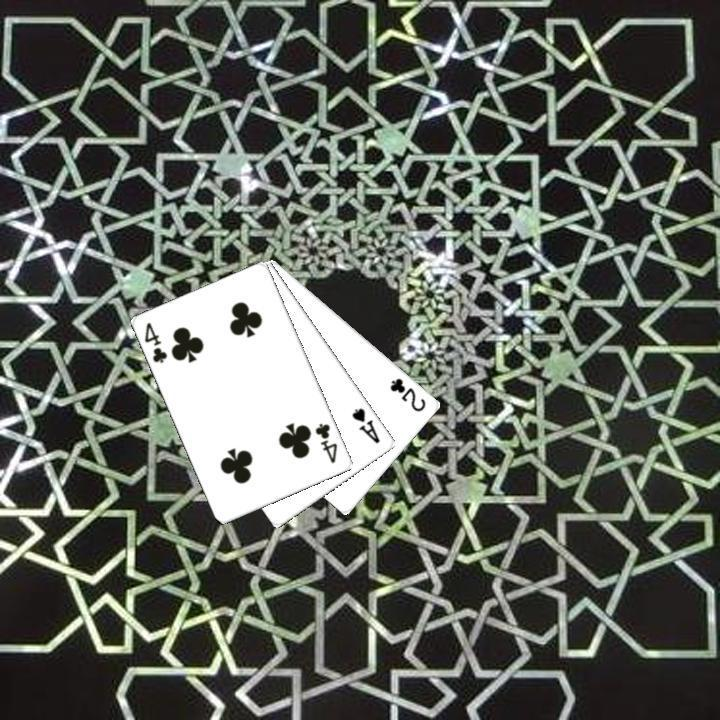2: (386, 373, 428, 414)
4: (140, 318, 170, 365), (311, 419, 340, 466)
A: (348, 403, 382, 446)
